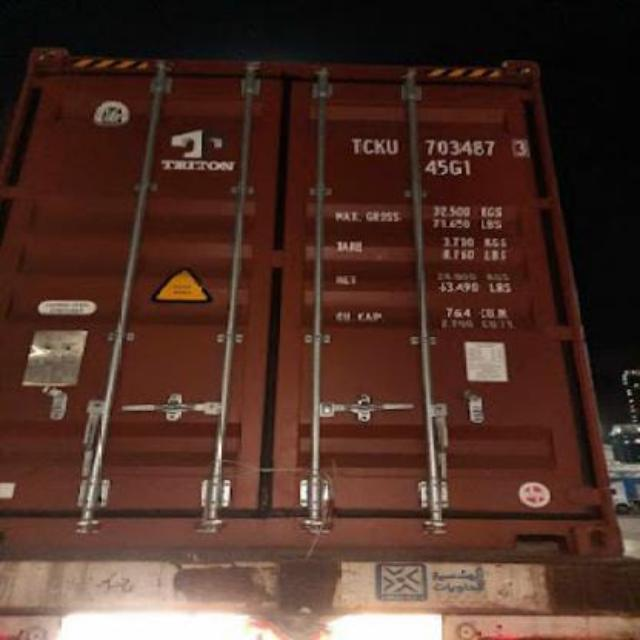0: (436, 134, 448, 158)
3: (511, 134, 532, 158), (446, 136, 459, 158)
4: (460, 134, 472, 158)
7: (482, 136, 496, 158), (422, 133, 434, 157)
8: (468, 134, 484, 162)
C: (361, 138, 374, 158)
K: (370, 134, 386, 158)
T: (348, 133, 362, 157)
U: (386, 132, 402, 158)
